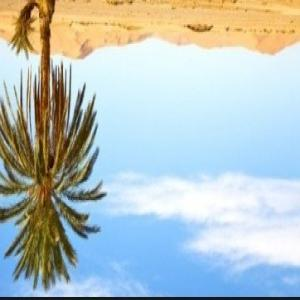palm tree: (0, 0, 107, 291)
